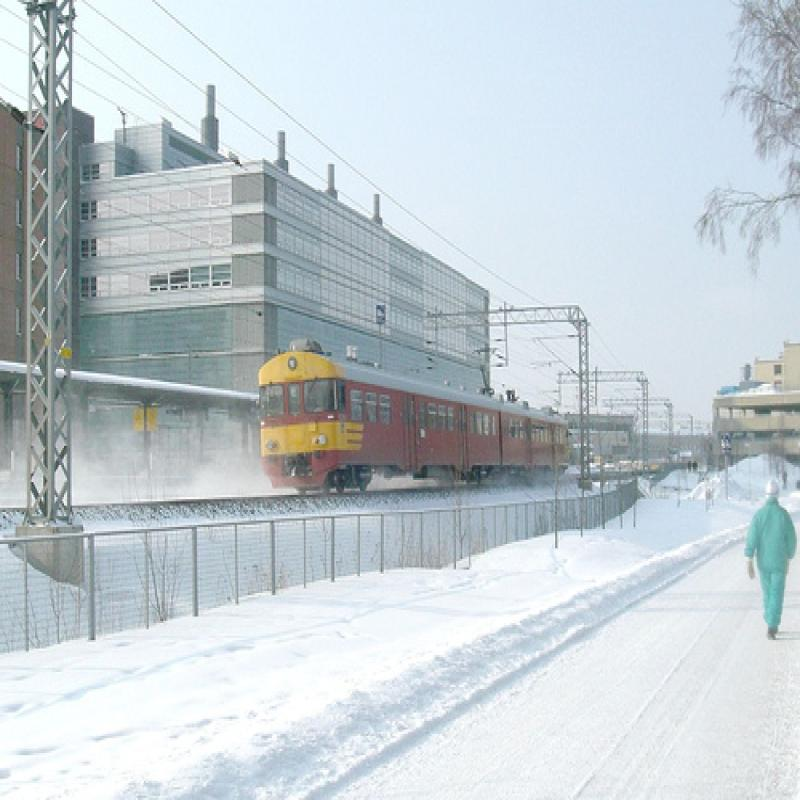train: (259, 353, 569, 498)
